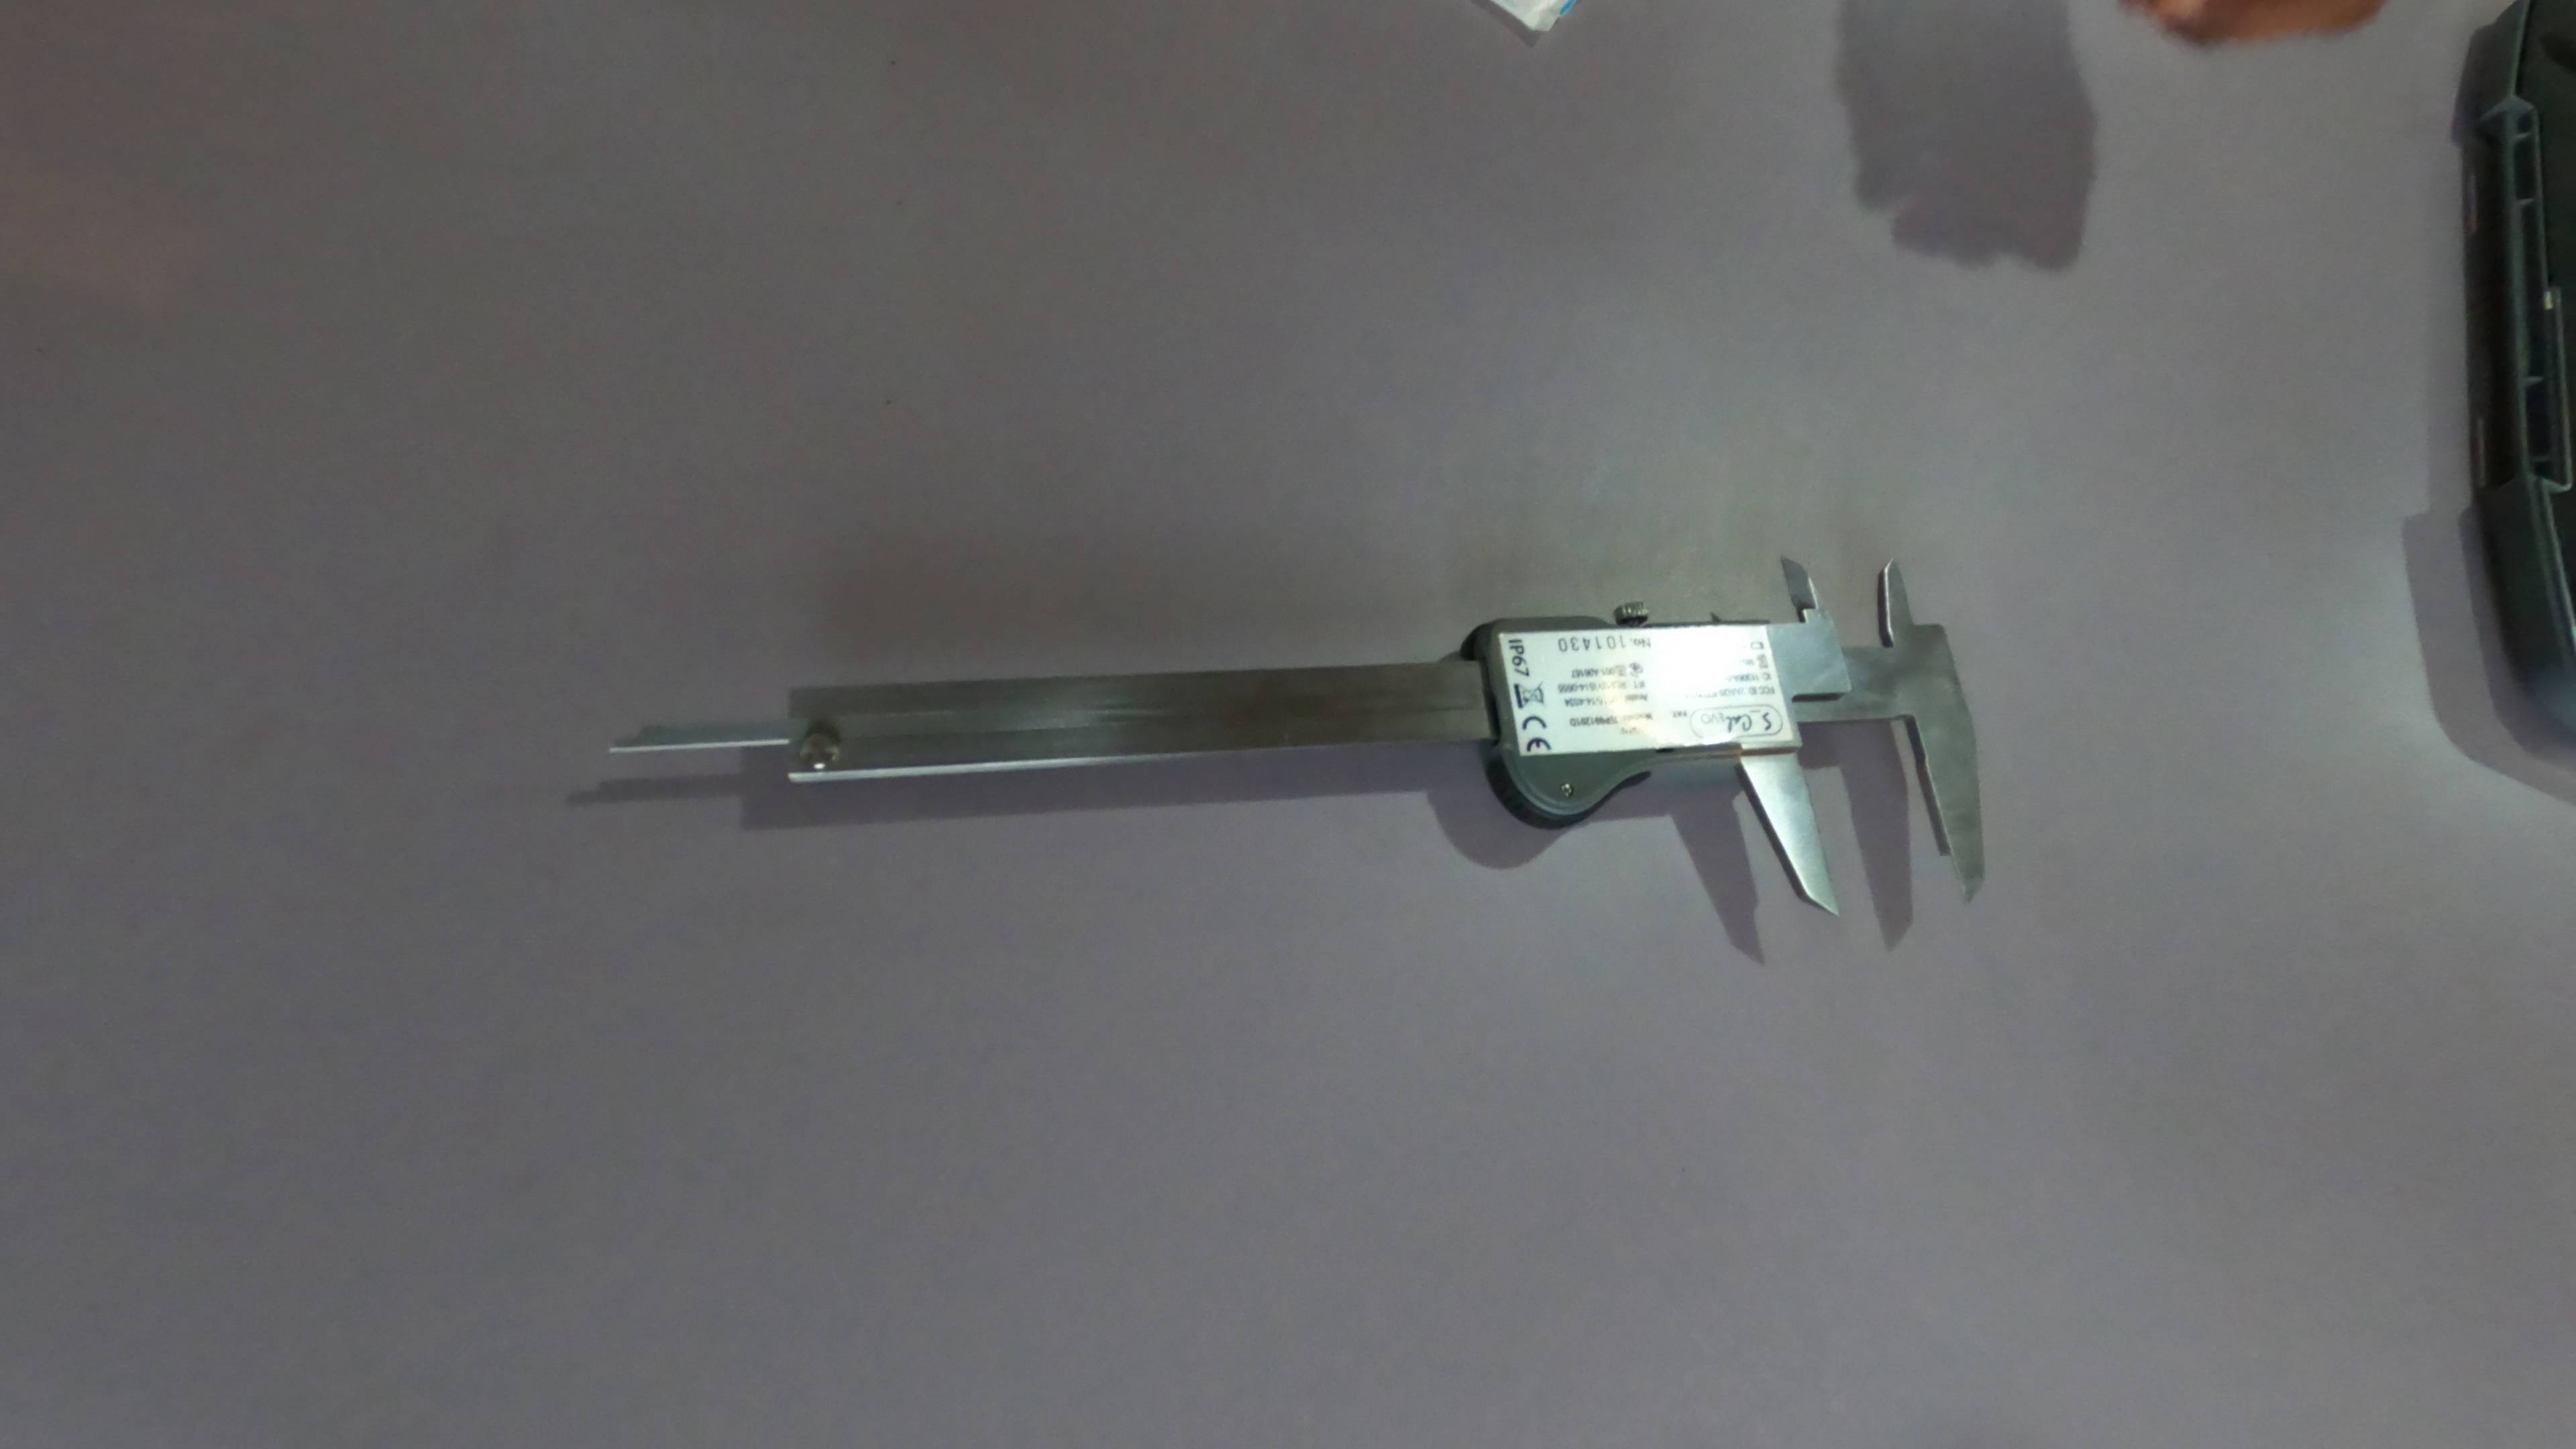vernier_caliper: (607, 554, 1974, 908)
